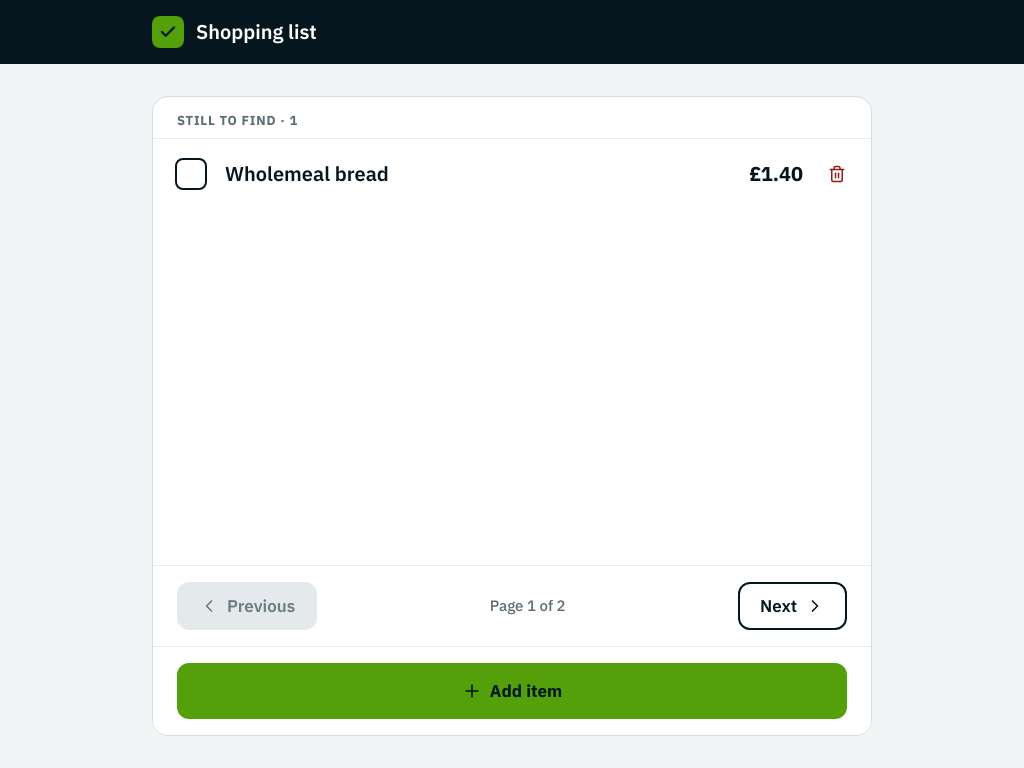
it: loads the next page when Next is clicked
Check: the text "Wholemeal bread" is shown, box [225,160,389,187]
Click the button "Next".
click(792, 606)  # box [738,582,847,630]
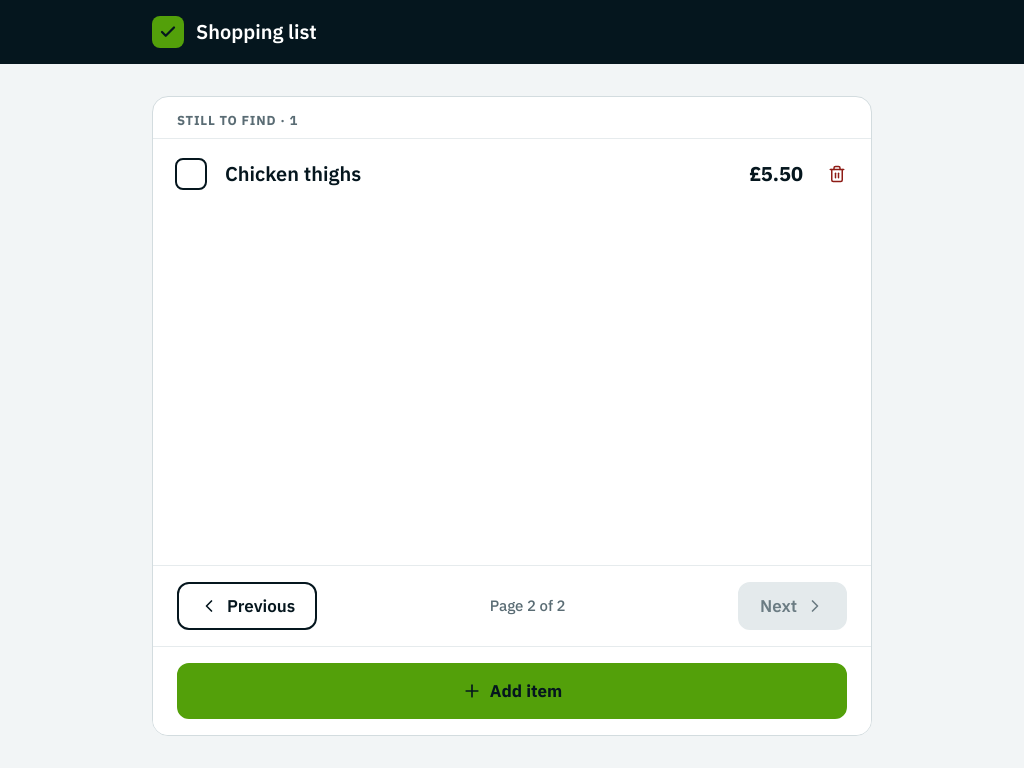
Check: the text "Chicken thighs" is shown, box [225,160,361,187]
Check: the text "Wholemeal bread" is gone
